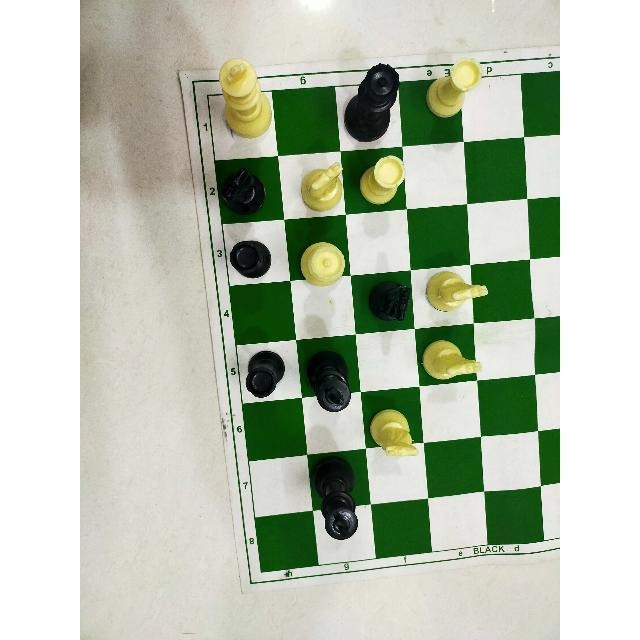black-king: (302, 453, 362, 545), (302, 336, 362, 418)
black-knight: (217, 162, 273, 225), (360, 277, 412, 329)
black-queen: (334, 56, 406, 148)
black-rook: (242, 347, 290, 403), (227, 233, 276, 283)
white-king: (213, 48, 276, 144)
white-knight: (421, 270, 497, 322), (362, 402, 424, 465), (417, 336, 496, 384), (289, 156, 347, 217)
white-queen: (293, 234, 353, 289)
white-rook: (420, 54, 490, 128), (352, 152, 408, 214)
